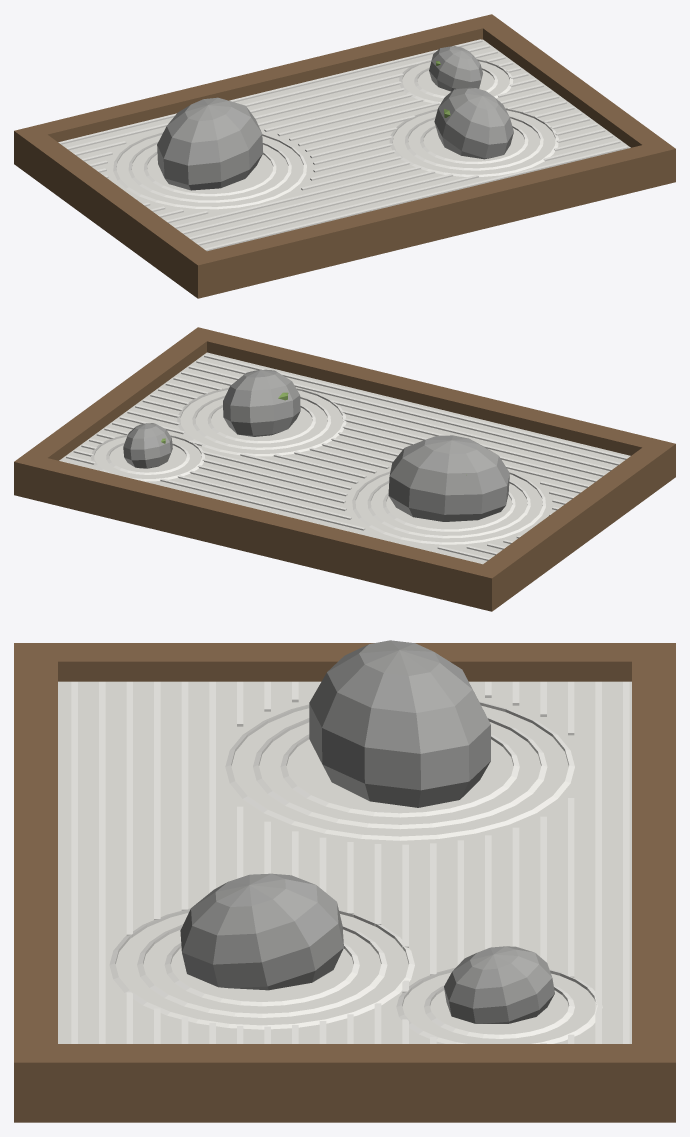
The model's file is jp_zen_garden.glb.
3 renders of one model, top to bottom at view 1: azimuth 30°, elevation 25°; view 2: azimuth 150°, elevation 25°; view 3: azimuth 270°, elevation 25°, orthographic. The views are drawn at different scales.
Parts seen in each view (by area): view 1: jp_zen_garden; view 2: jp_zen_garden; view 3: jp_zen_garden.
Part boxes in pixels (x1,y1,x2,y2): jp_zen_garden: (14, 14, 675, 298); jp_zen_garden: (14, 327, 675, 611); jp_zen_garden: (14, 640, 675, 1122).
Size of the model in its own units: 1.8 by 0.3196 by 1.2.
